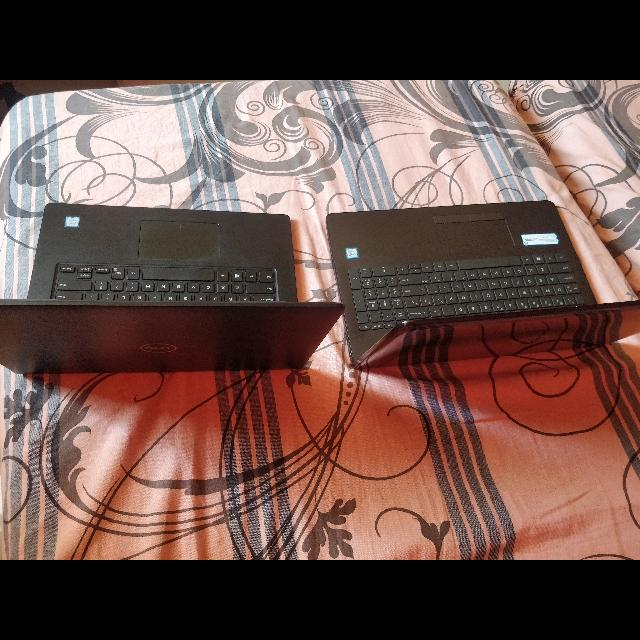Laptop: (1, 199, 350, 379), (316, 196, 640, 378)
